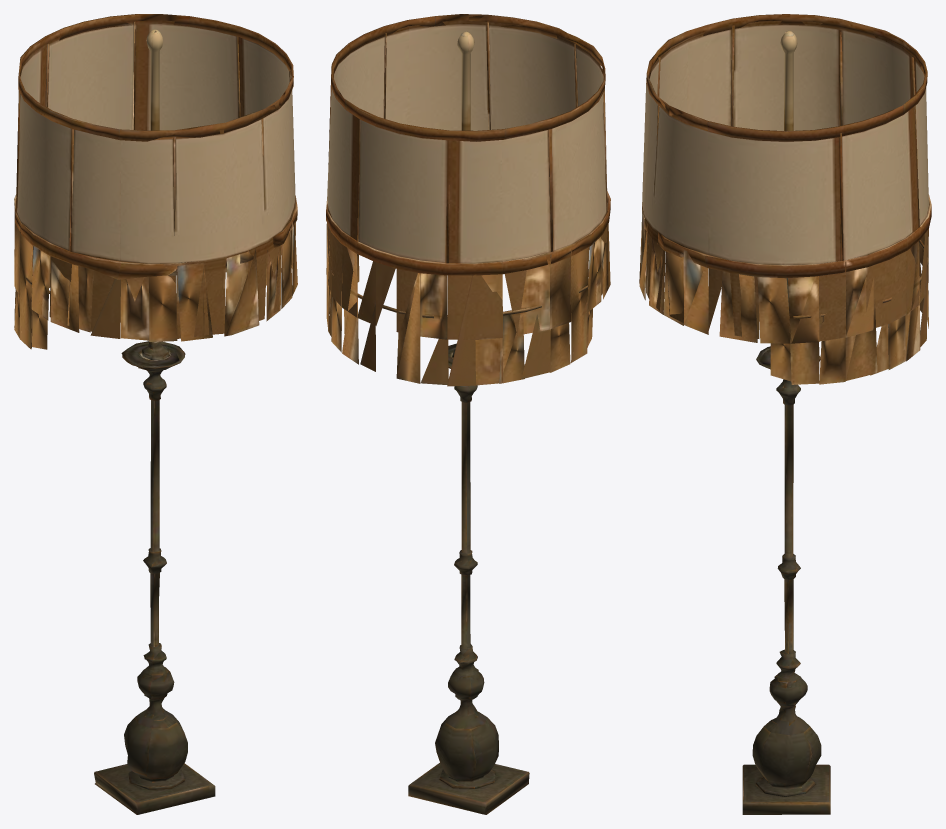
The model's file is floor_lamp.glb.
The picture shows the model from 3 angles, left to right: view 1: azimuth 30°, elevation 25°; view 2: azimuth 150°, elevation 25°; view 3: azimuth 270°, elevation 25°; orthographic projection.
Bounding box in the file's own units: 0.3228 × 0.9507 × 0.3292.
1 material, 1 textured.
